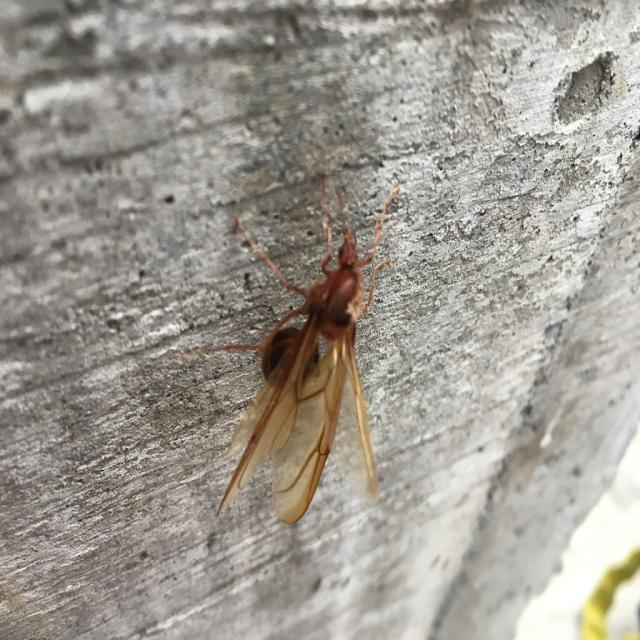Alive-Female-Alate: (179, 172, 401, 525)
